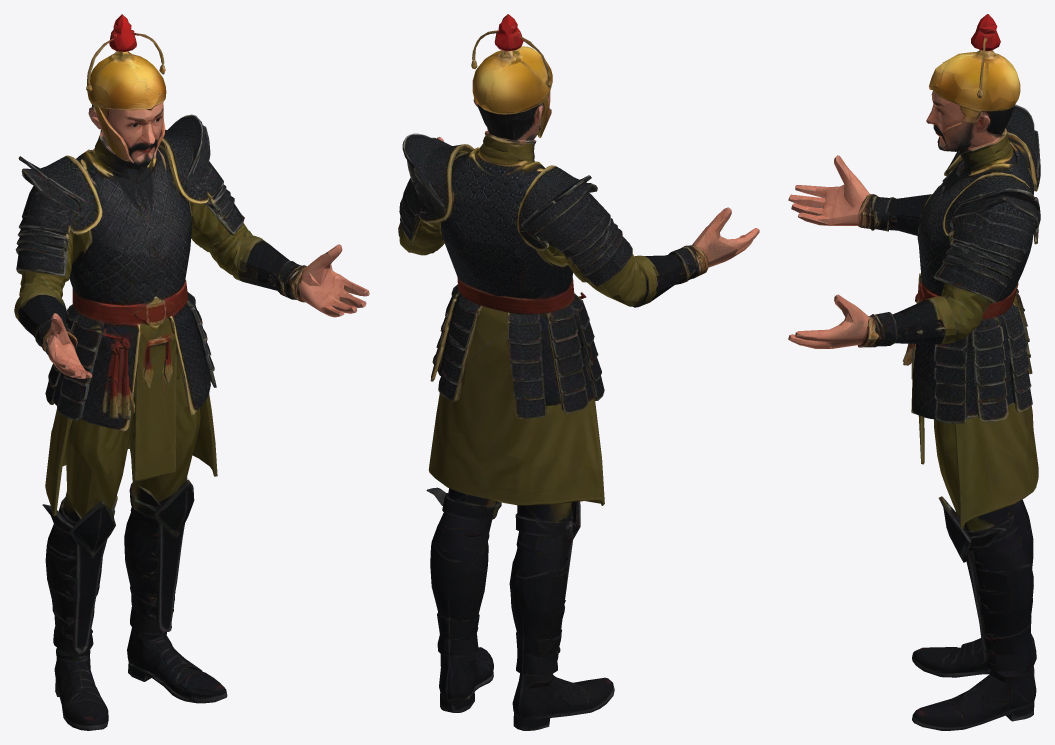
File: char_H40_nguyen-khoai.glb
3 views of the same model, side by side, from view 1: azimuth 30°, elevation 25°; view 2: azimuth 150°, elevation 25°; view 3: azimuth 270°, elevation 25° (orthographic).
Bounding box in the file's own units: 0.8973 × 1.9 × 0.6389.
1 material, 1 textured.
